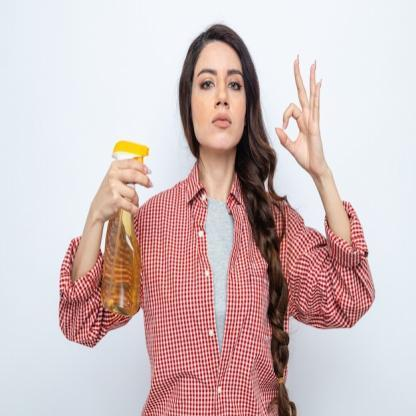ok: (272, 51, 324, 170)
